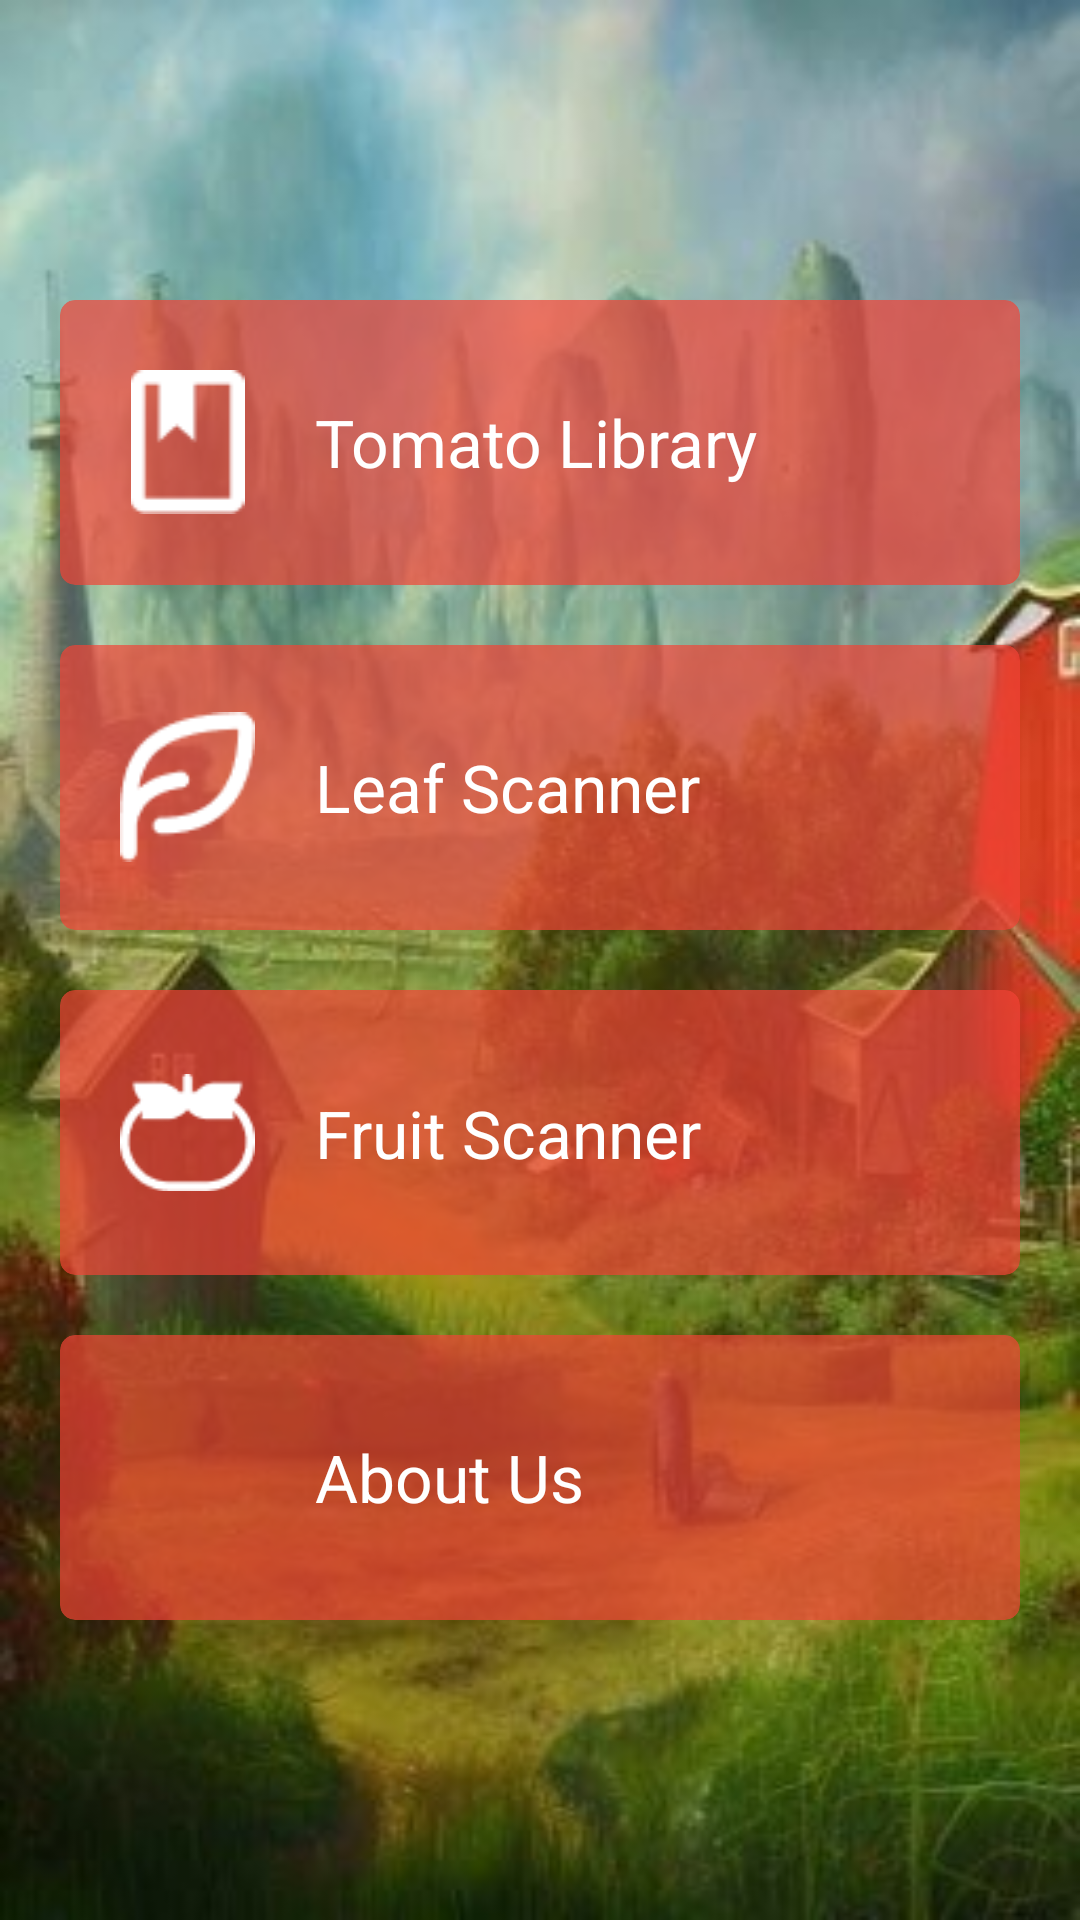

Screen size 1080x1920. Icon name, then its box in pixels as (x1, y1, x2, y2):
book: (131, 370, 255, 514)
emoji tomato: (120, 1074, 255, 1191)
